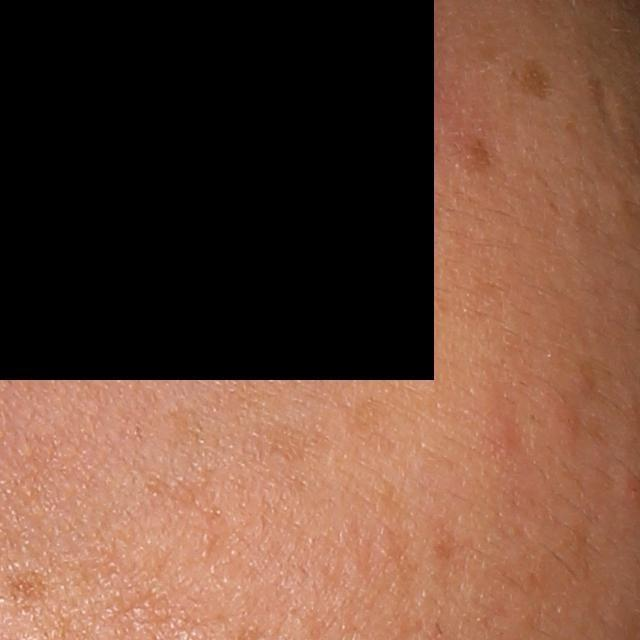melasma: (259, 417, 321, 466), (517, 50, 560, 102), (0, 564, 49, 606), (464, 137, 491, 177)
